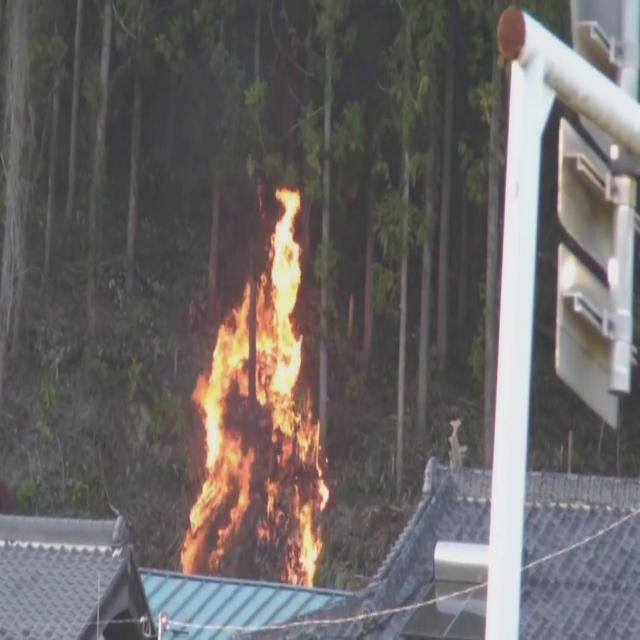Fire: (180, 184, 328, 588)
